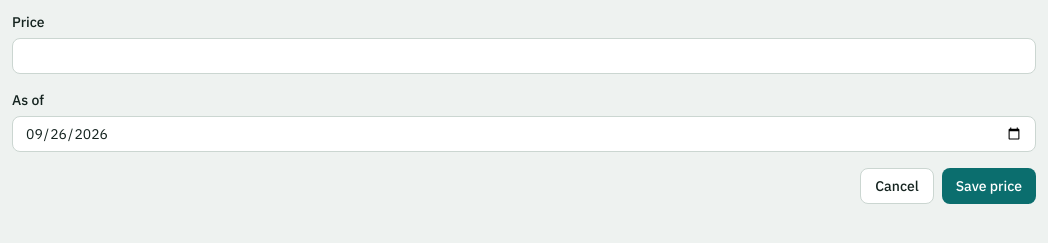
Scenario: ManualPriceForm › requires an as-of date
Type "118.4" into the field labelled "Price".
click(524, 56); type("118.4")  # box [12,38,1036,74]
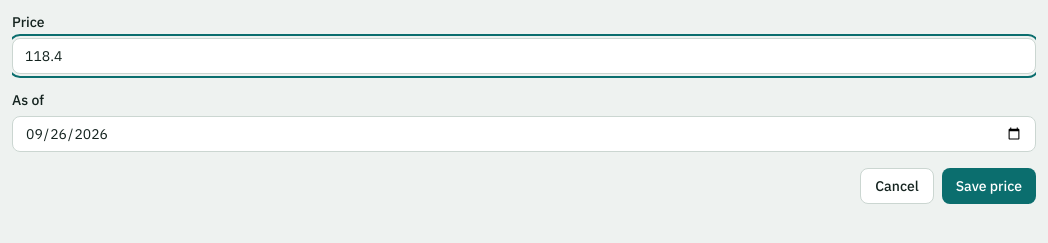
Clear the date field labelled "As of" at (524, 134), box [12,116,1036,152]
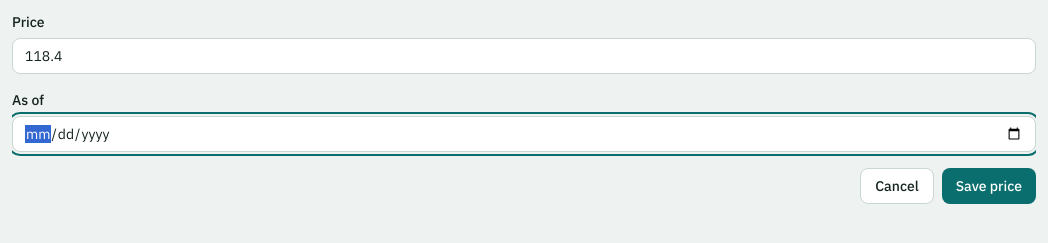
Click the button "Save price".
click(989, 186)  # box [942,168,1036,204]
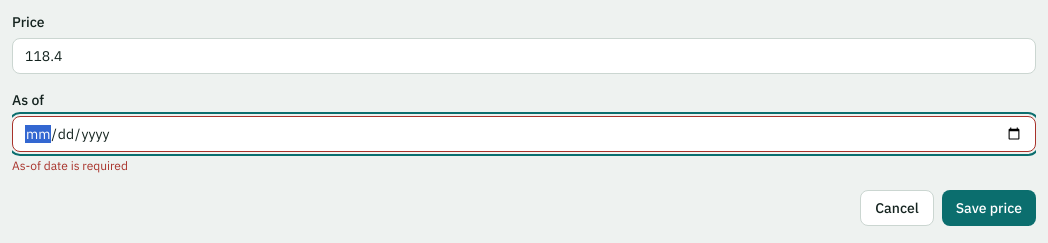
Result: the text "As-of date is required" is shown at [12,158,128,173]
